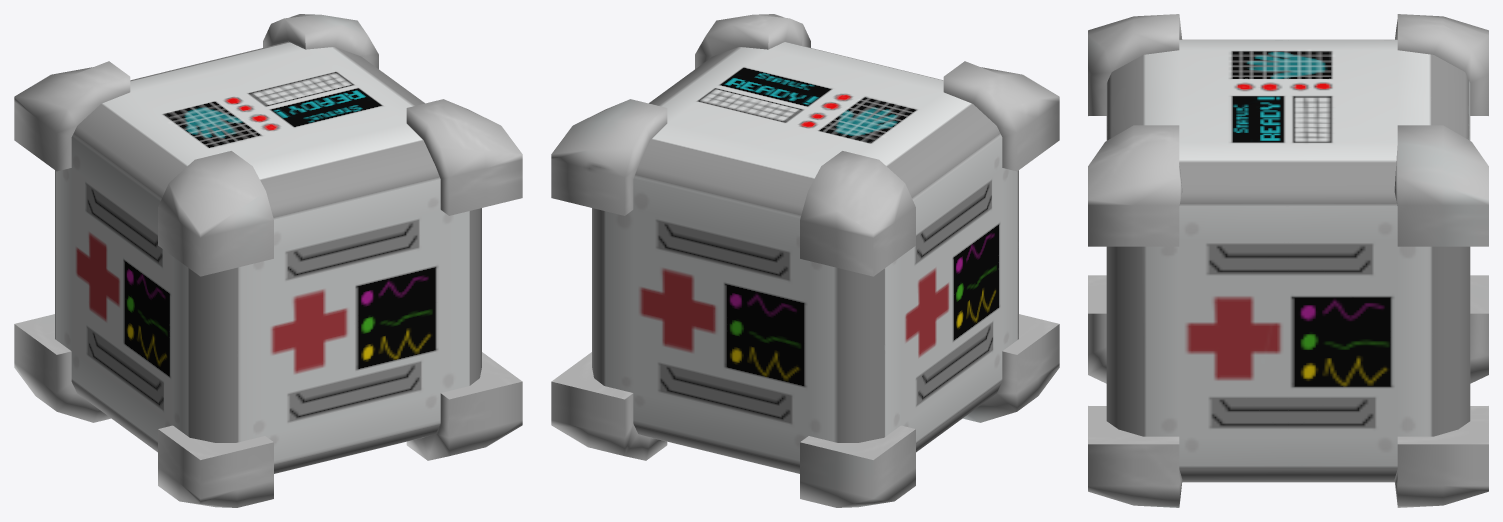
The model's file is HCrate.fbx.
3 views of the same model, side by side, from view 1: azimuth 30°, elevation 25°; view 2: azimuth 150°, elevation 25°; view 3: azimuth 270°, elevation 25° (orthographic). The views are drawn at different scales.
Parts seen in each view (by area): view 1: HCrate_Mesh; view 2: HCrate_Mesh; view 3: HCrate_Mesh.
Boxes of the visible parts, x1,y1,x2,y2 form: HCrate_Mesh: [14, 14, 522, 507]; HCrate_Mesh: [551, 14, 1059, 507]; HCrate_Mesh: [1088, 14, 1488, 507].
Size of the model in its own units: 9.25 by 9.26 by 9.26.
